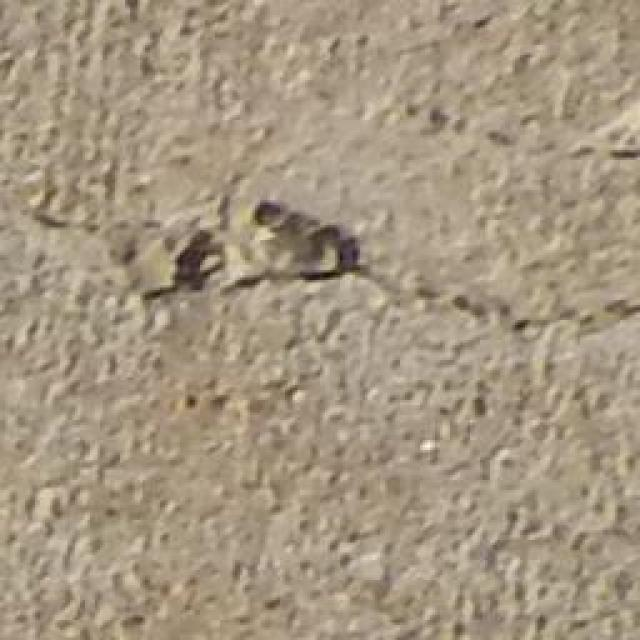concrete-crack: (142, 201, 371, 306)
